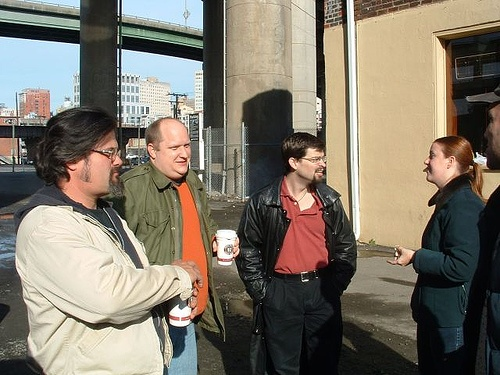head: (52, 103, 123, 204), (146, 116, 194, 182), (425, 135, 476, 189), (280, 131, 328, 187)
person: (13, 105, 203, 374), (232, 128, 358, 374), (119, 113, 222, 375), (388, 134, 484, 371), (462, 35, 499, 375)
